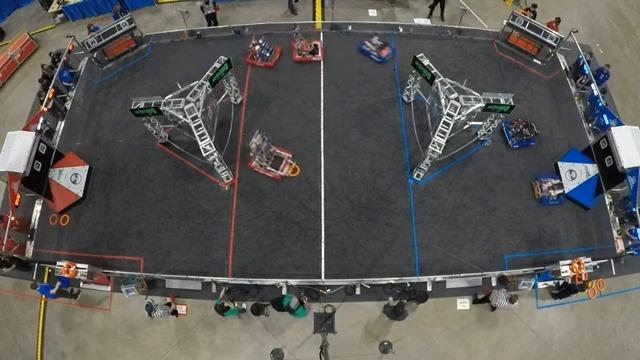robot: (244, 123, 299, 183), (285, 24, 331, 70), (503, 113, 546, 155), (358, 31, 398, 68), (526, 173, 569, 207), (244, 39, 284, 72)
